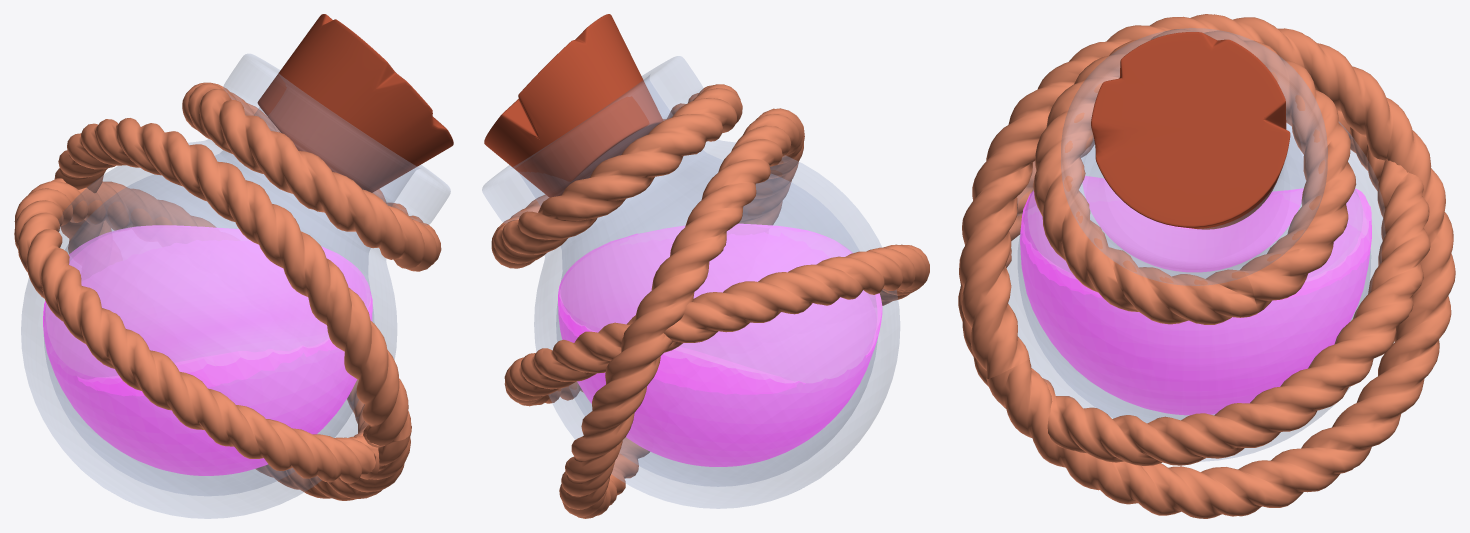
File: SM_Potion.glb
3 renders of one model, left to right at view 1: azimuth 30°, elevation 25°; view 2: azimuth 150°, elevation 25°; view 3: azimuth 270°, elevation 25°, orthographic. The views are drawn at different scales.
Parts seen in each view (by area): view 1: bottle, potion, rope.003, rope.001, cork, rope.002; view 2: bottle, potion, rope.003, cork, rope.001, rope.002; view 3: bottle, rope.003, potion, rope.002, cork, rope.001.
Boxes of the visible parts, <box> form: bottle: <box>21,54,450,518</box>; potion: <box>43,225,372,475</box>; rope.003: <box>54,118,411,500</box>; rope.001: <box>14,178,387,483</box>; cork: <box>257,14,453,192</box>; rope.002: <box>182,82,441,271</box>; bottle: <box>482,56,899,508</box>; potion: <box>558,223,882,466</box>; rope.003: <box>559,108,804,518</box>; cork: <box>484,14,663,197</box>; rope.001: <box>504,244,929,406</box>; rope.002: <box>491,84,742,268</box>; bottle: <box>1006,28,1385,461</box>; rope.003: <box>959,14,1455,518</box>; potion: <box>1020,176,1371,415</box>; rope.002: <box>1033,29,1356,324</box>; cork: <box>1091,32,1290,229</box>; rope.001: <box>958,110,1430,465</box>.
Size of the model in its own units: 2.42 by 2.71 by 2.44.
